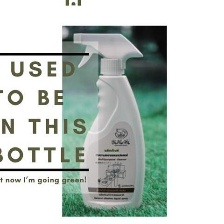cleaning_solution: (70, 30, 147, 212)
